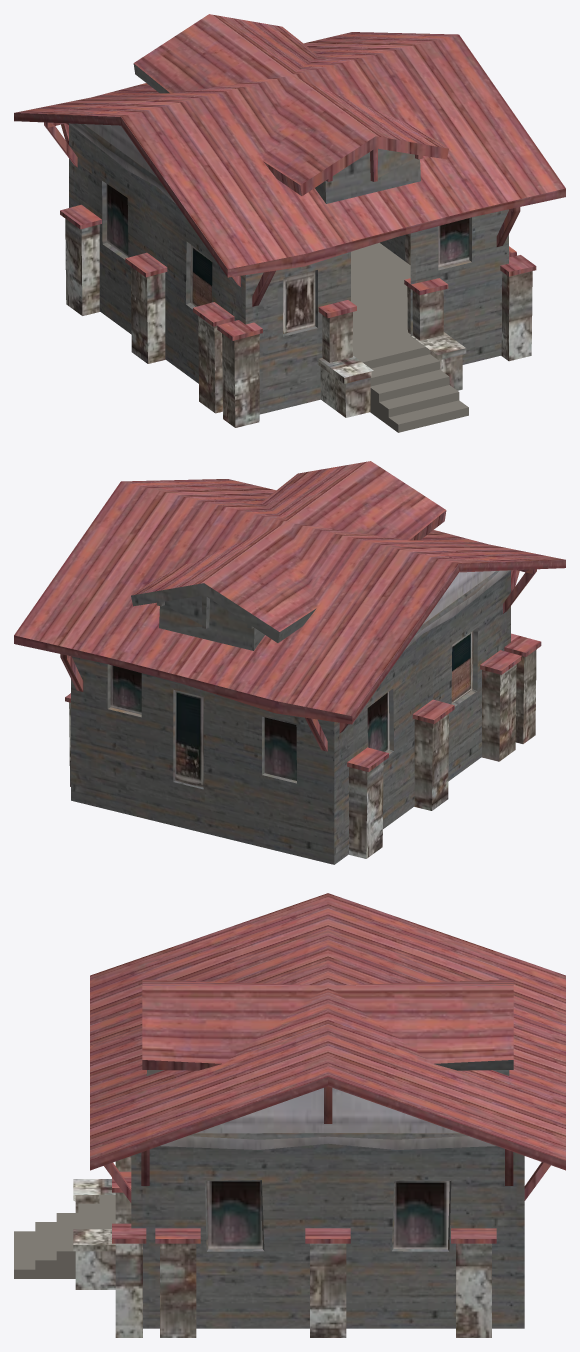
The model's file is rural-house.access-v1.lod0.glb.
3 renders of one model, top to bottom at view 1: azimuth 30°, elevation 25°; view 2: azimuth 150°, elevation 25°; view 3: azimuth 270°, elevation 25°, orthographic. The views are drawn at different scales.
Parts seen in each view (by area): view 1: Rural_HouseOld_1_Material #39_0, Walkable floors and stairs; view 2: Rural_HouseOld_1_Material #39_0; view 3: Rural_HouseOld_1_Material #39_0, Walkable floors and stairs.
Boxes of the visible parts, x1,y1,x2,y2 form: Rural_HouseOld_1_Material #39_0: [14, 14, 565, 427]; Walkable floors and stairs: [351, 242, 468, 432]; Rural_HouseOld_1_Material #39_0: [14, 461, 565, 864]; Rural_HouseOld_1_Material #39_0: [73, 893, 565, 1337]; Walkable floors and stairs: [14, 1195, 115, 1278].
Size of the model in its own units: 6.9 by 4.79 by 8.76.
2 materials, 1 textured.
